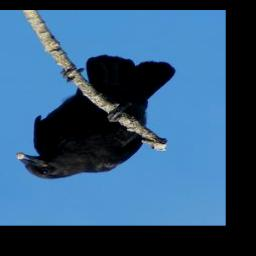Crow: (14, 54, 177, 180)
